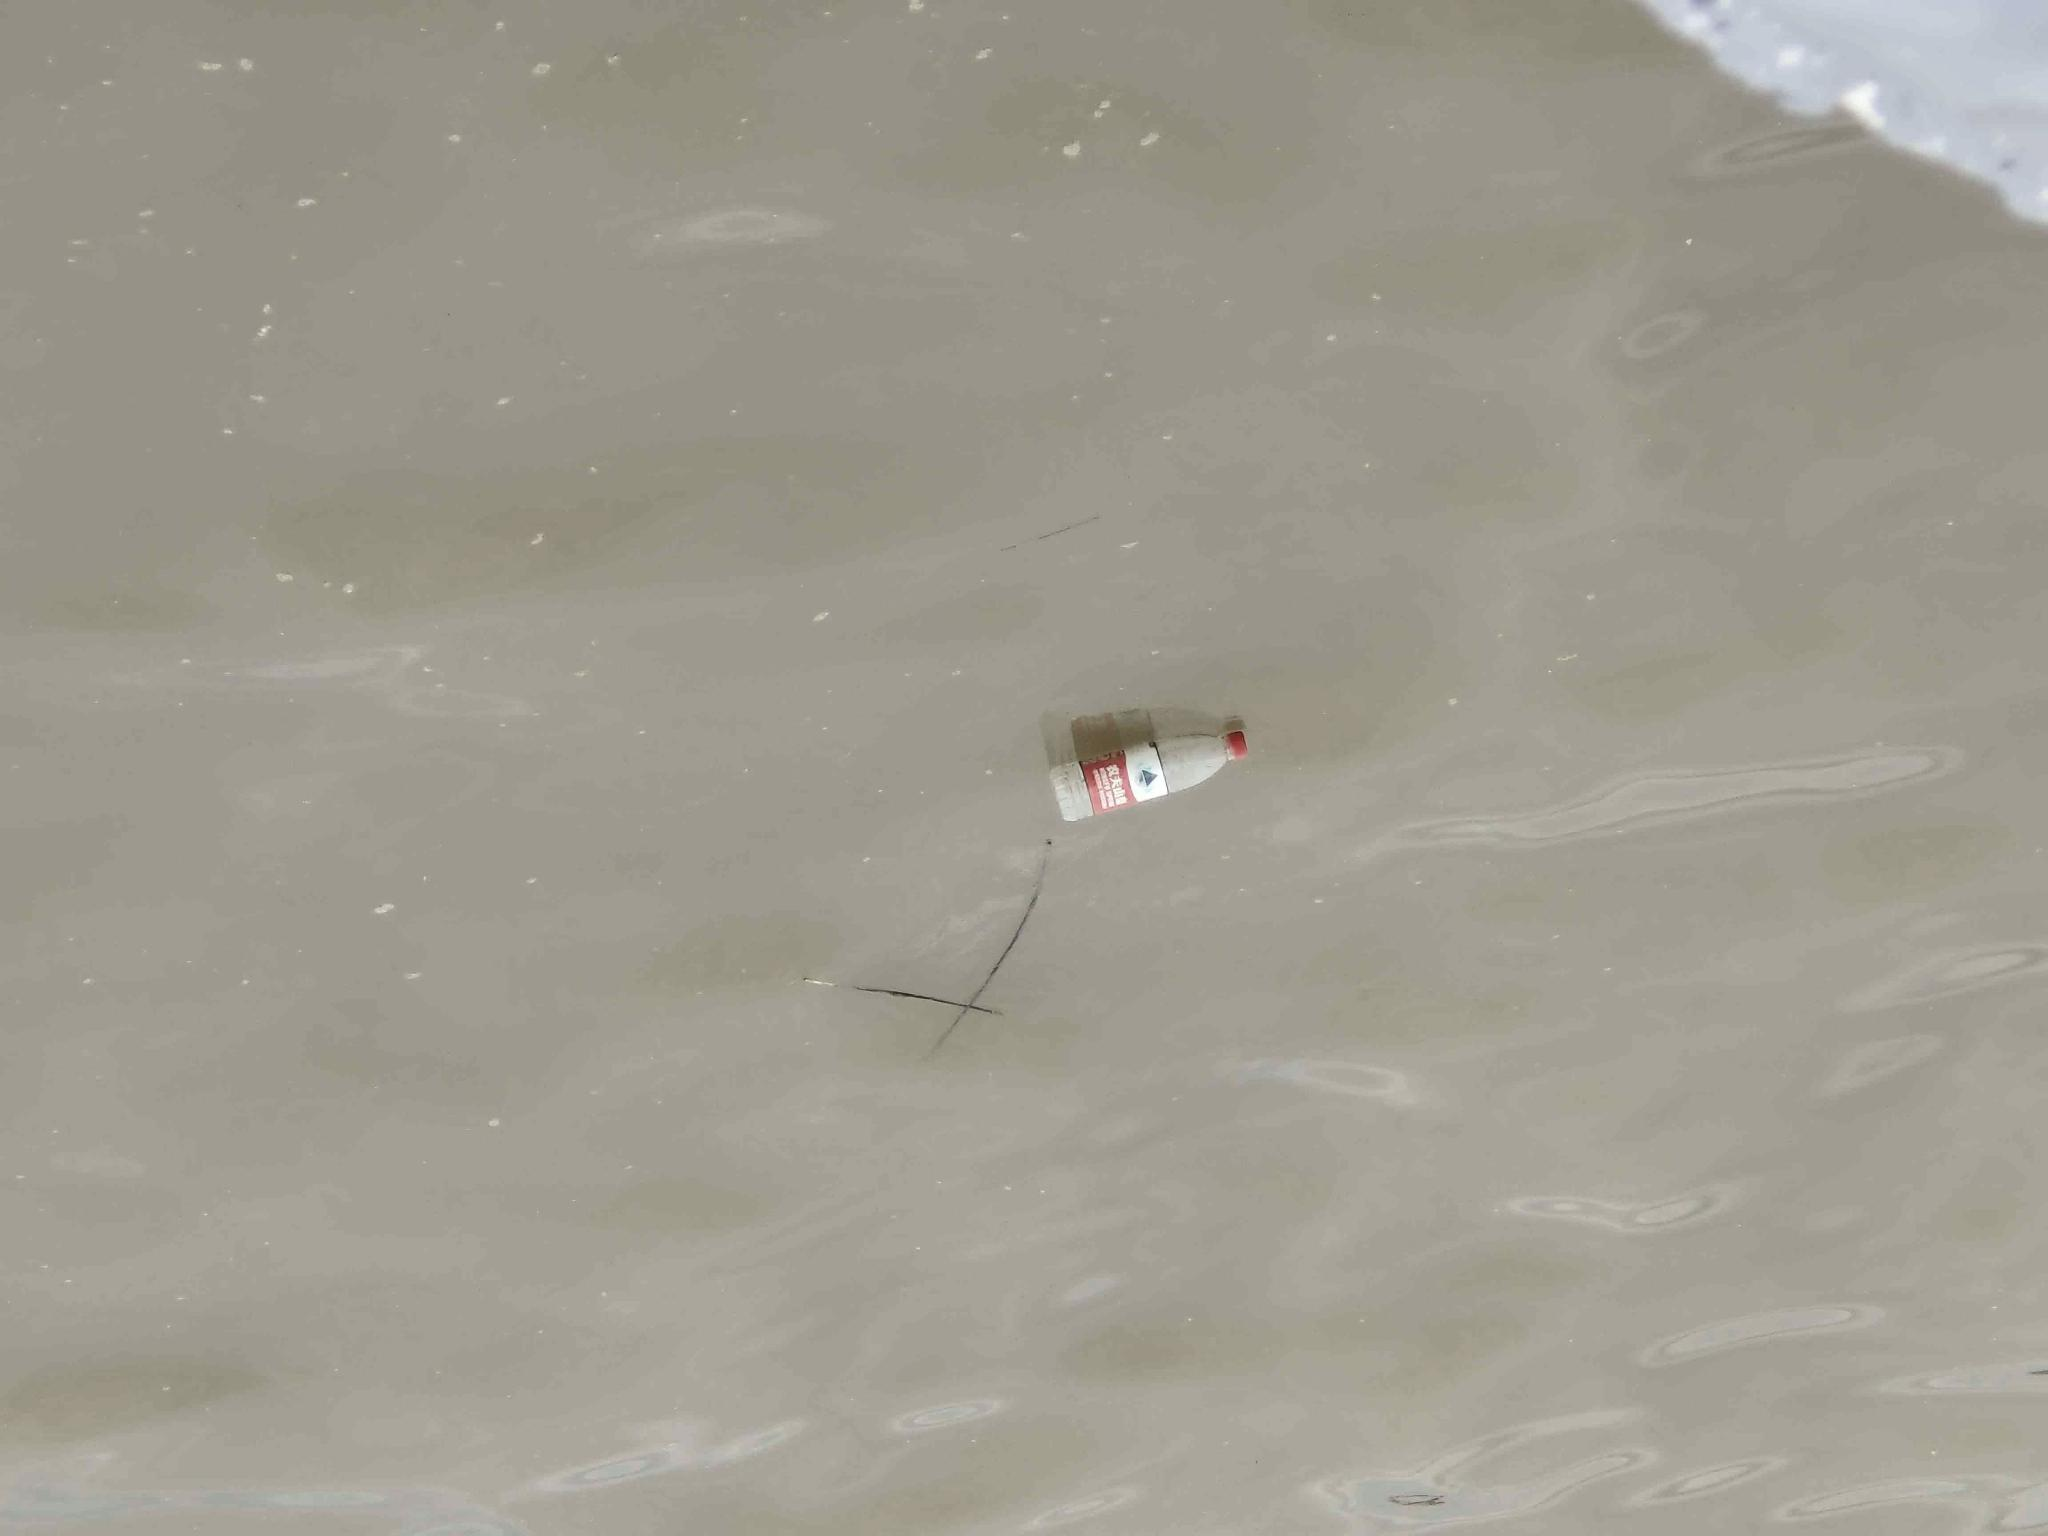Plastic: (1047, 729, 1253, 821)
